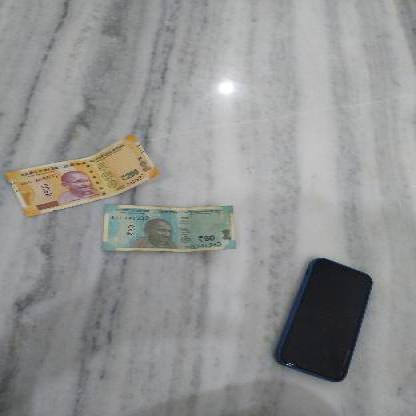New200Front: (5, 135, 166, 202)
New50Front: (108, 205, 237, 251)
